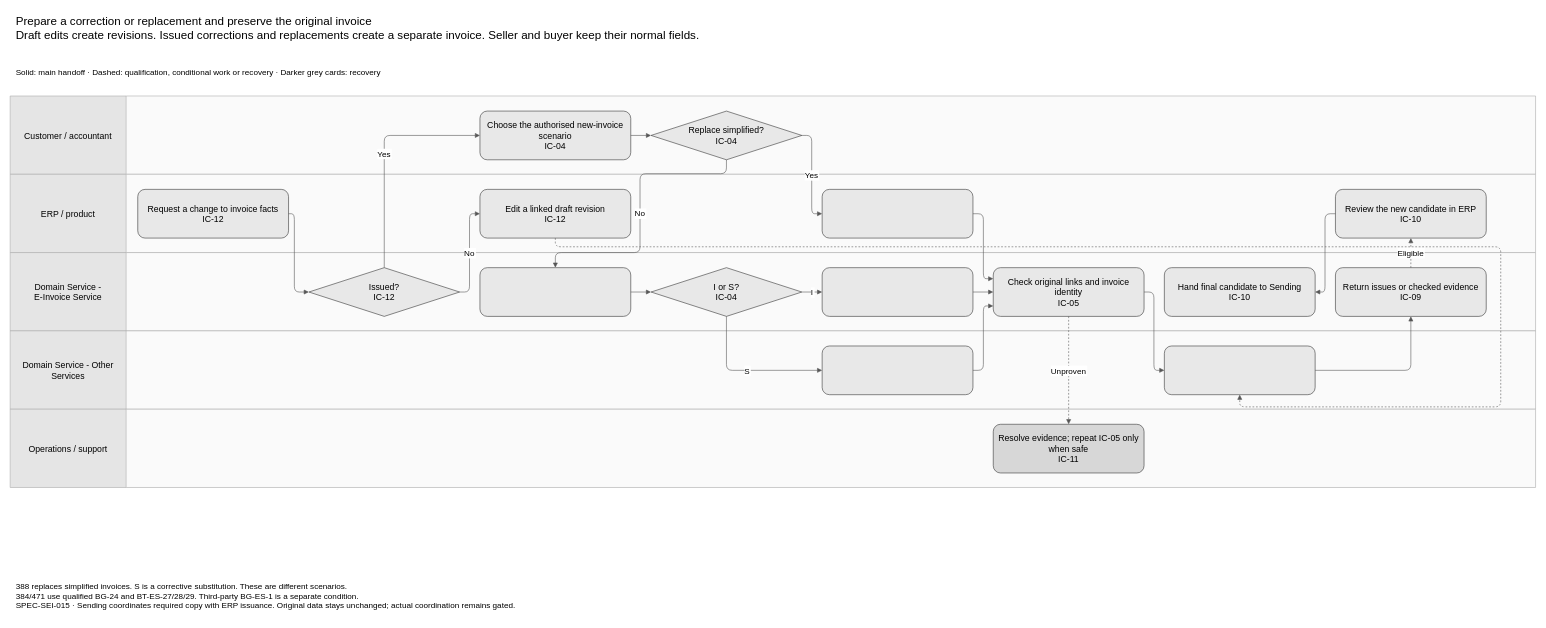
This 1546x628 diagram has some shape labels left out. The centre of each missing label's shape, as x and y in pixels:
"Check difference values as deltas IC-06" goes at point (897, 291).
"Check full values and original amounts IC-06" goes at point (897, 370).
"Confirm 384 or 471, reason and authority IC-02/04" goes at point (555, 291).
"Generate and validate the new revision IC-03–08" goes at point (1239, 370).
"Prepare type 388 with full values IC-04/05" goes at point (897, 213).
